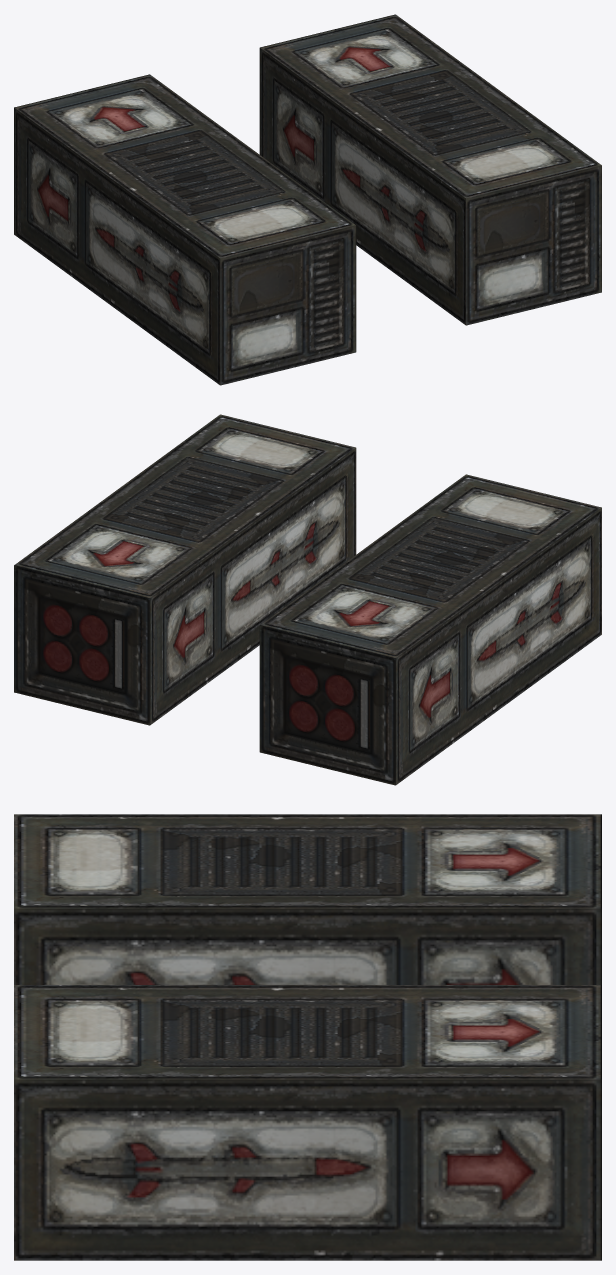
File: MOBILE_TURRET_PACK_1_ROCKETLAUNCHER_PART1.FBX
The picture shows the model from 3 angles, top to bottom: view 1: azimuth 30°, elevation 25°; view 2: azimuth 150°, elevation 25°; view 3: azimuth 270°, elevation 25°; orthographic projection. The views are drawn at different scales.
Visible parts, largest first — view 1: Object001; view 2: Object001; view 3: Object001.
Part boxes in pixels (x1,y1,x2,y2): Object001: (14, 14, 601, 385); Object001: (14, 414, 601, 785); Object001: (14, 814, 601, 1260).
Size of the model in its own units: 37.57 by 11.95 by 35.17.
